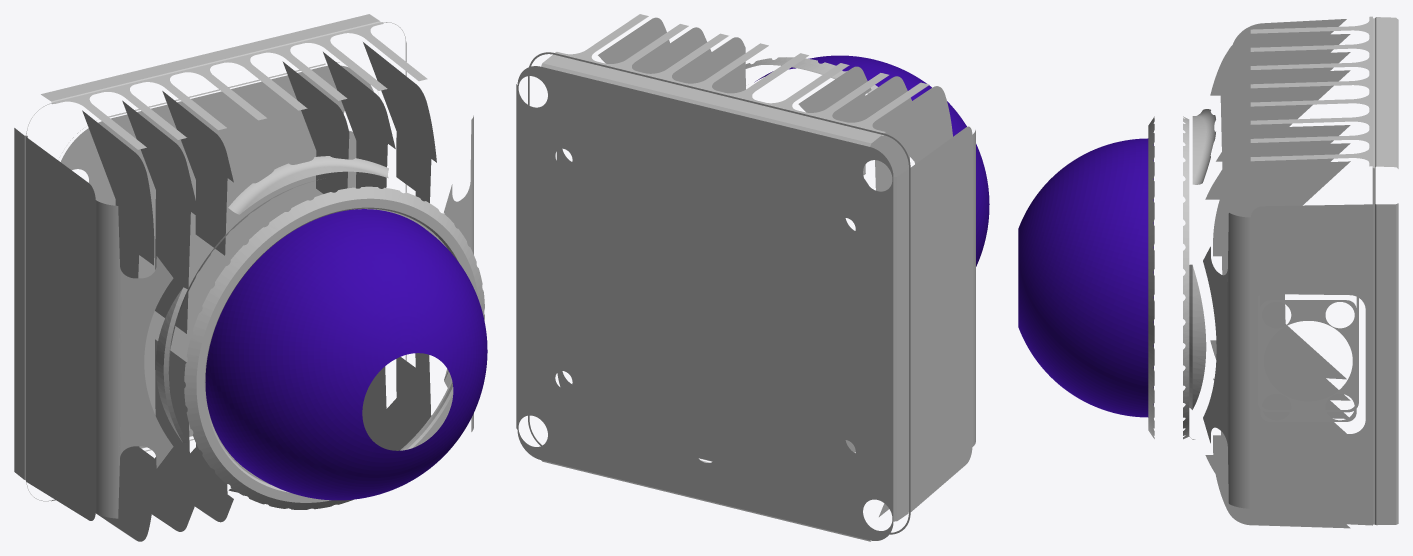
The model's file is Mid360.glb.
3 renders of one model, left to right at view 1: azimuth 30°, elevation 25°; view 2: azimuth 150°, elevation 25°; view 3: azimuth 270°, elevation 25°, orthographic. The views are drawn at different scales.
Parts seen in each view (by area): view 1: colour_204_204_204, colour_17_1_151; view 2: colour_204_204_204, colour_17_1_151; view 3: colour_204_204_204, colour_17_1_151.
Boxes of the visible parts, x1=… form: colour_204_204_204: x1=14, y1=14, x2=484, y2=541; colour_17_1_151: x1=205, y1=209, x2=487, y2=500; colour_204_204_204: x1=516, y1=14, x2=975, y2=541; colour_17_1_151: x1=754, y1=55, x2=989, y2=266; colour_204_204_204: x1=1148, y1=16, x2=1398, y2=528; colour_17_1_151: x1=1018, y1=138, x2=1153, y2=417.
Size of the model in its own units: 0.0649 by 0.0649 by 0.06.
